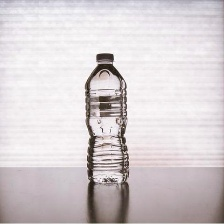bottle: (78, 47, 141, 187)
